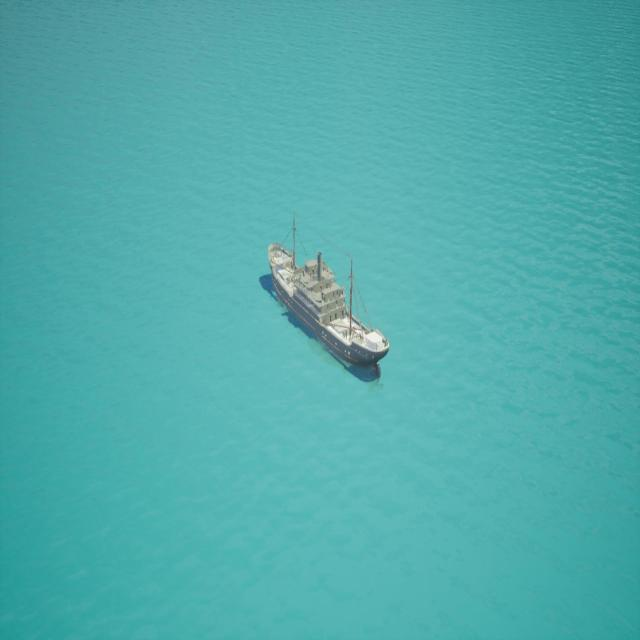fishing ship: (261, 213, 390, 381)
